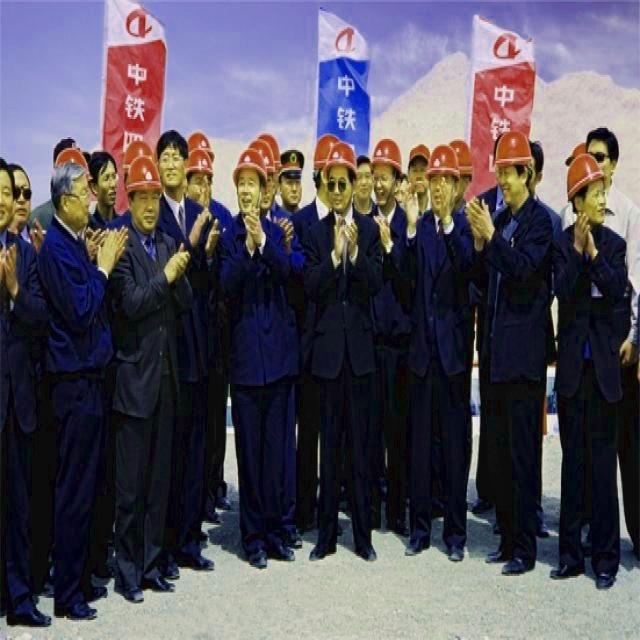Con_Casco: (231, 148, 268, 221), (494, 131, 531, 204)
Sin_Casco_Mascarrilla: (51, 161, 89, 227), (156, 130, 188, 193)
